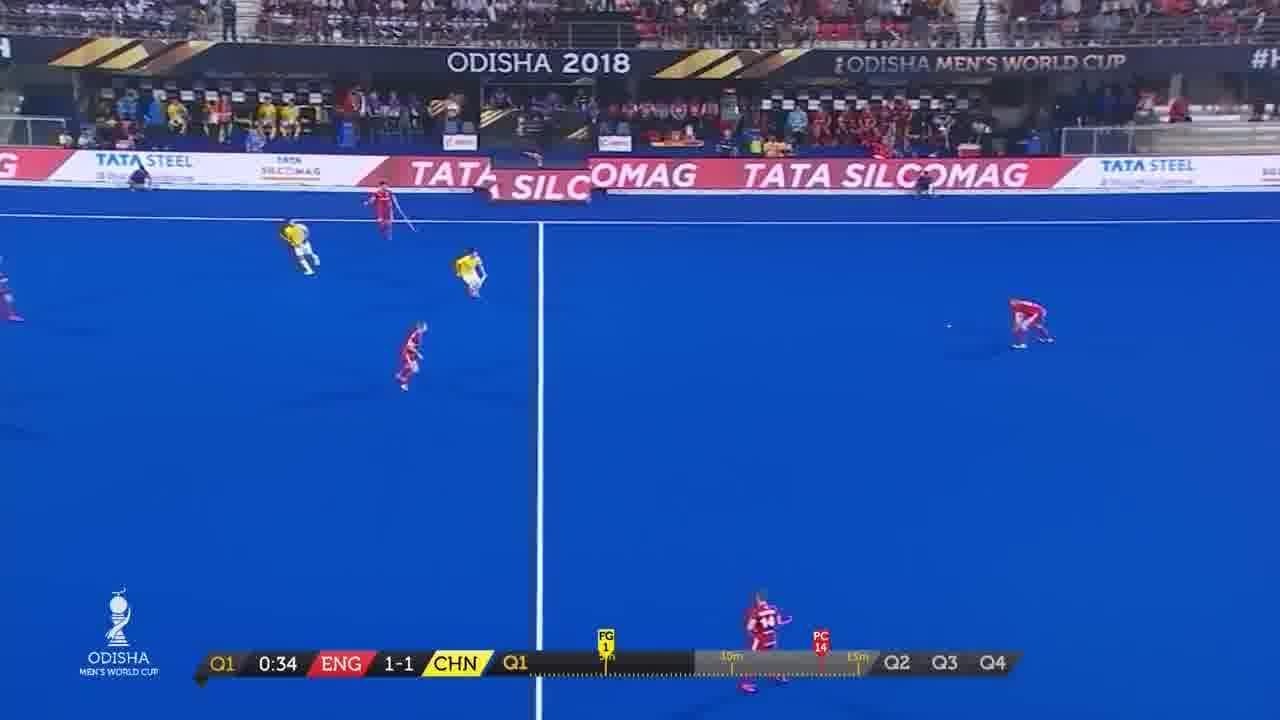ball: (938, 316, 966, 340)
